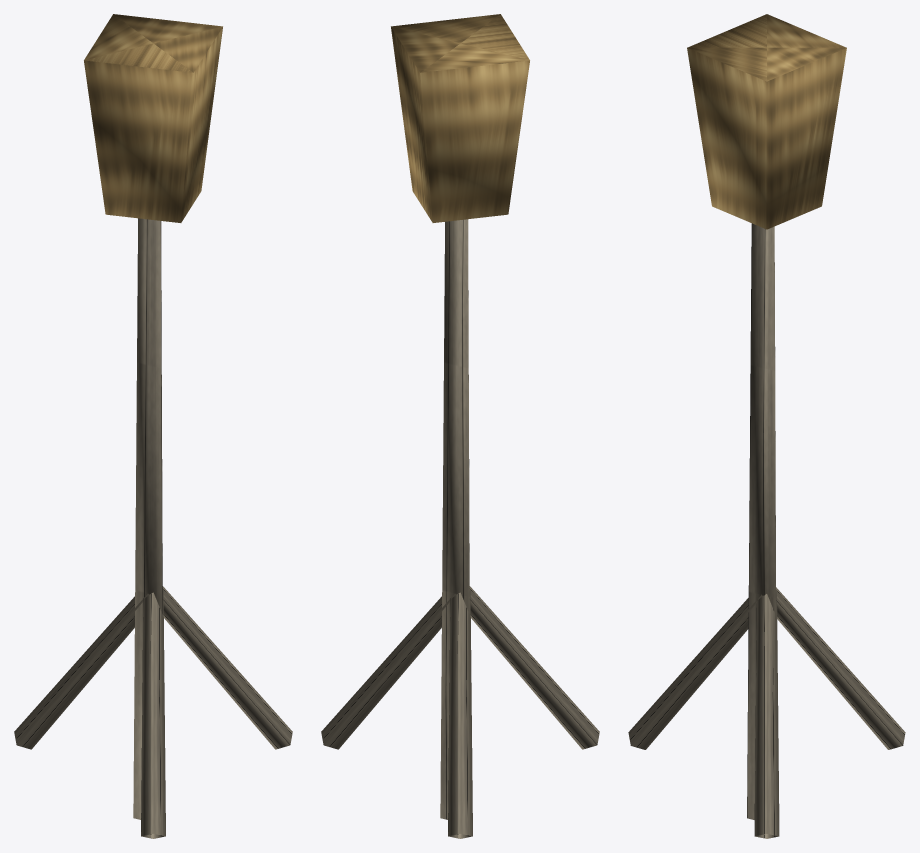
File: Brazier_Pole_1_LOD2.gltf
3 views of the same model, side by side, from view 1: azimuth 30°, elevation 25°; view 2: azimuth 150°, elevation 25°; view 3: azimuth 270°, elevation 25° (orthographic).
Parts seen in each view (by area): view 1: Brazier_Pole_1_LOD2; view 2: Brazier_Pole_1_LOD2; view 3: Brazier_Pole_1_LOD2.
Part boxes in pixels (x1,y1,x2,y2): Brazier_Pole_1_LOD2: [14, 14, 292, 838]; Brazier_Pole_1_LOD2: [321, 14, 599, 838]; Brazier_Pole_1_LOD2: [628, 14, 905, 838].
Size of the model in its own units: 0.9833 by 3.4 by 1.11.
2 materials, 2 textured.
